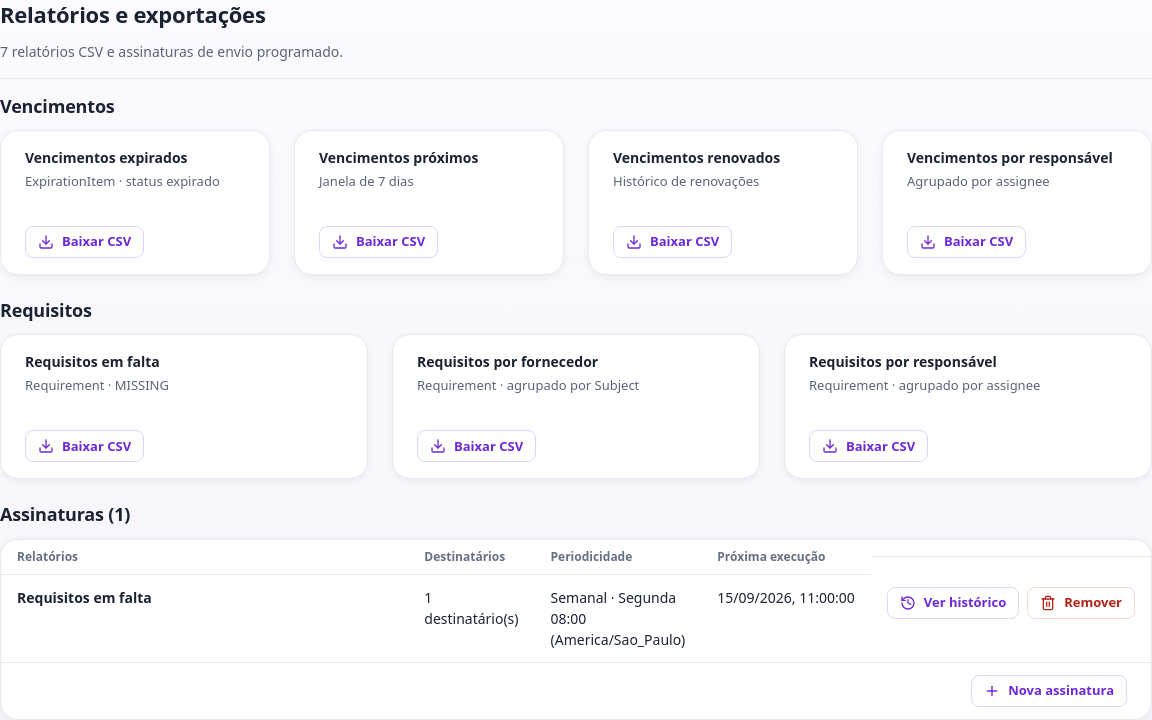
Reports (A16, Block 10) › D-293: 'Ver histórico' opens a dialog with real run history, and a download link only for a run that actually delivered
Click the button "Ver histórico".
click(953, 603)  # box [887,587,1019,619]
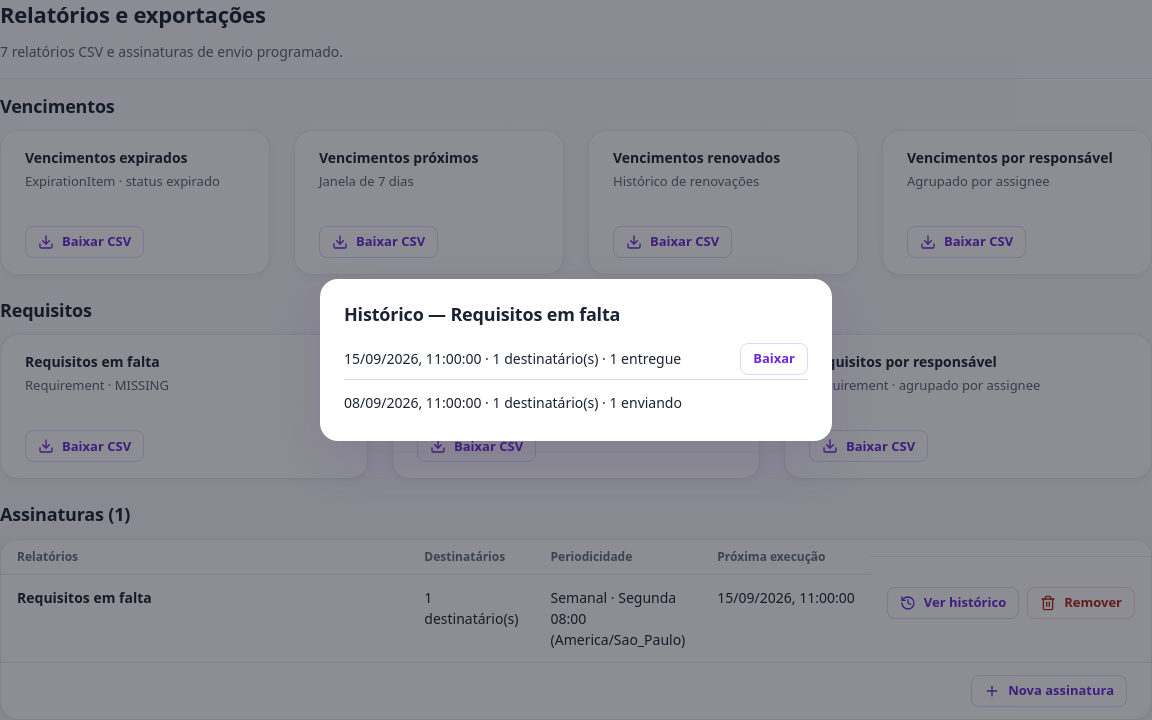
Now the text "15/09/2026, 11:00:00 · 1 destinatário(s) · 1 entregue" is shown, box [344,348,681,369]
Now the text "08/09/2026, 11:00:00 · 1 destinatário(s) · 1 enviando" is shown, box [344,392,682,413]
Now the number of buttons "Baixar" is 1, box [740,343,808,375]
